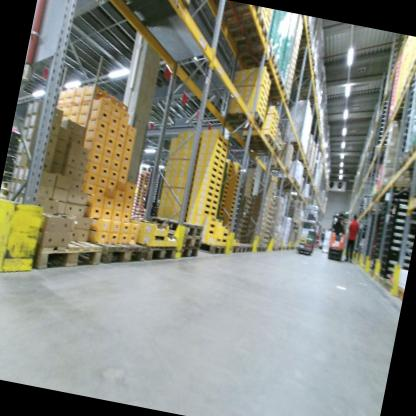pallet: (27, 232, 103, 291), (99, 0, 192, 42), (86, 232, 151, 278), (224, 8, 271, 56), (210, 0, 262, 34), (219, 103, 266, 139), (239, 36, 279, 77), (153, 211, 205, 239), (141, 237, 181, 269), (241, 130, 276, 151), (250, 139, 283, 159), (179, 230, 205, 253), (265, 90, 292, 111), (179, 242, 203, 265), (200, 241, 227, 259), (262, 59, 284, 81), (268, 78, 290, 96), (266, 162, 291, 177), (404, 137, 416, 167), (2, 177, 14, 191), (0, 187, 10, 200)
small_load_carrier: (325, 209, 351, 263)
